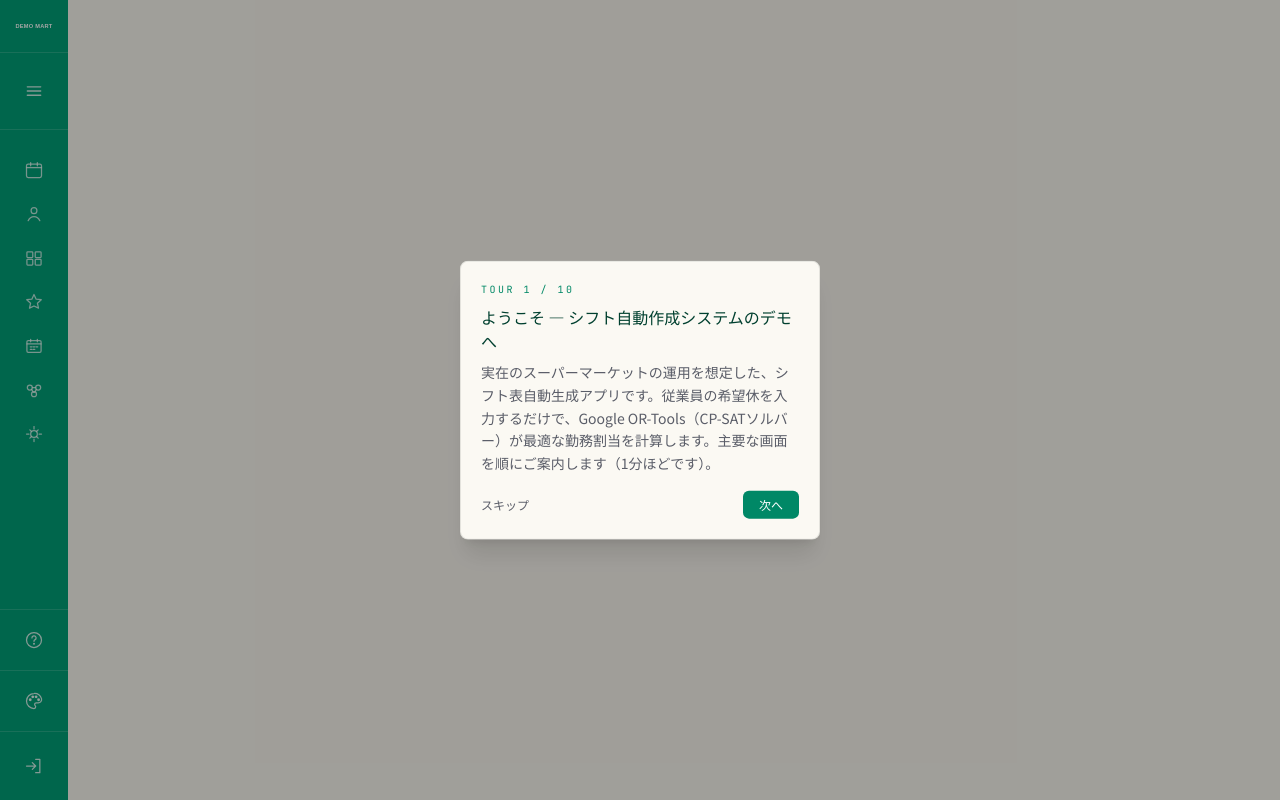
Scenario: Layout — sidebar collapse › expands again after toggling
Click the button named "メニューを展開". click: (34, 91)
box: [16,73,52,109]
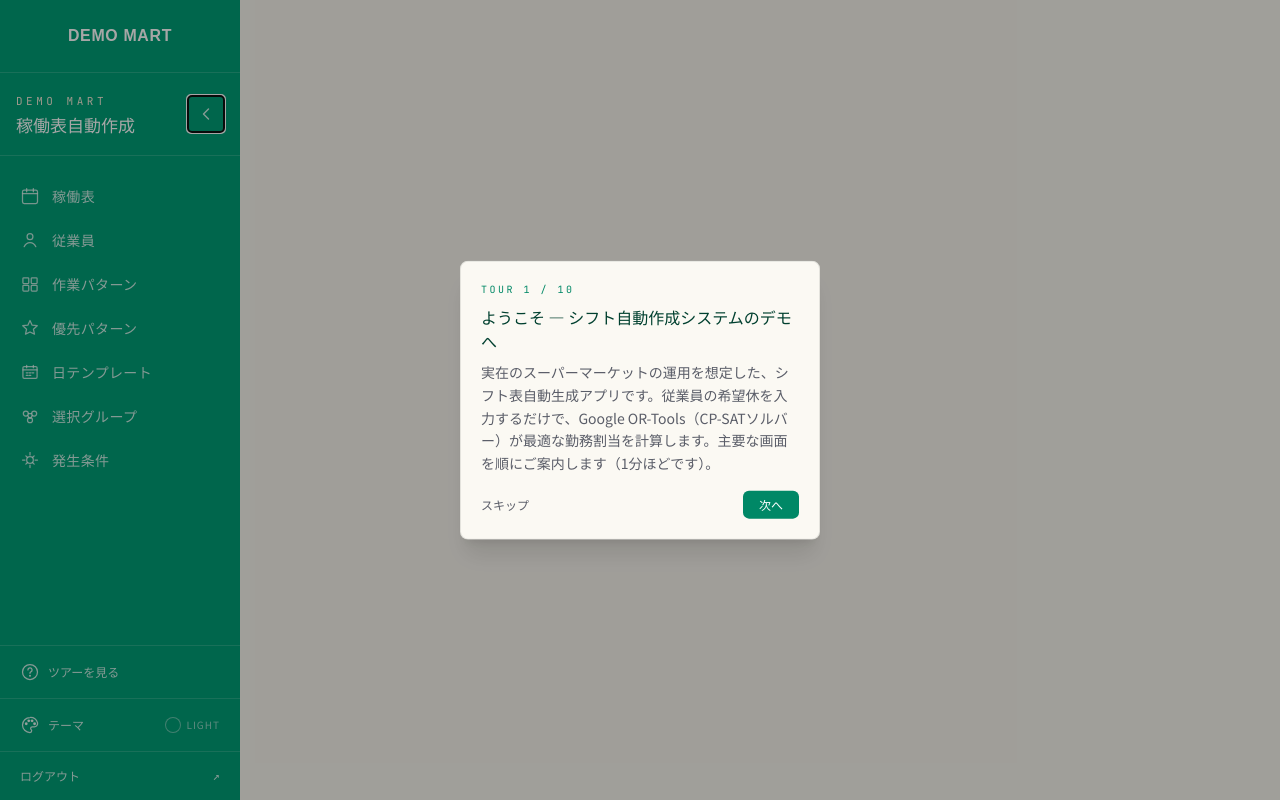
Result: the text "稼働表" is shown at [52,186,95,206]
